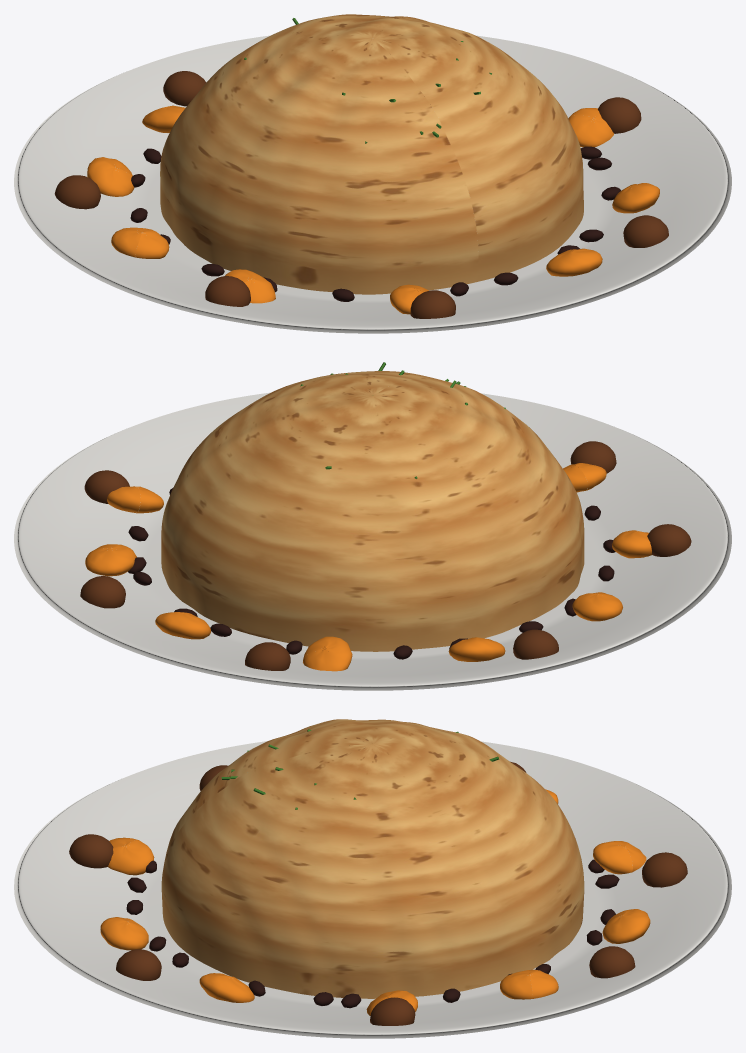
The model's file is plov.glb.
3 views of the same model, one above another, from view 1: azimuth 30°, elevation 25°; view 2: azimuth 150°, elevation 25°; view 3: azimuth 270°, elevation 25° (orthographic).
Visible parts, largest first — view 1: plov; view 2: plov; view 3: plov.
Part boxes in pixels (x1,y1,x2,y2): plov: [14, 14, 731, 333]; plov: [14, 362, 731, 690]; plov: [14, 719, 731, 1038].
Size of the model in its own units: 0.34 by 0.0959 by 0.34.
6 materials, 1 textured.
